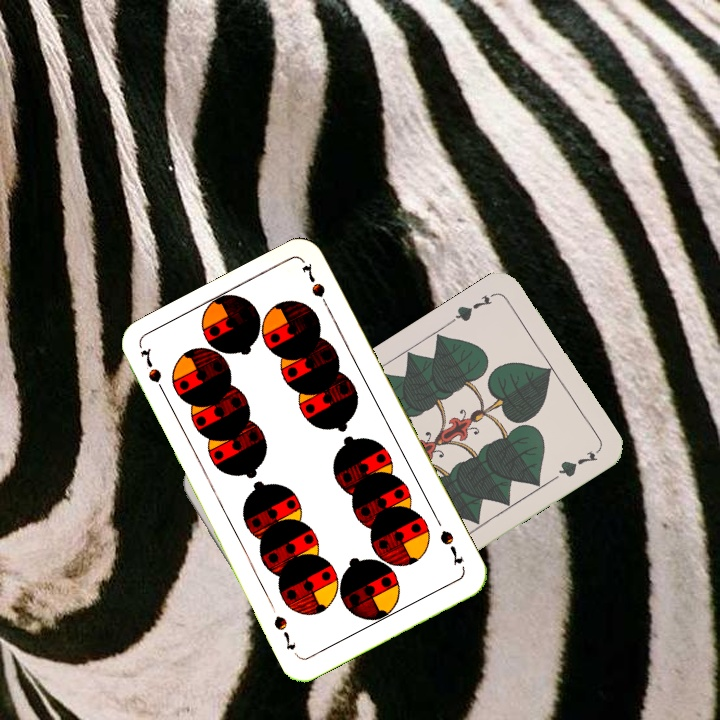G7: (447, 288, 500, 326)
S7: (136, 344, 170, 400), (435, 525, 466, 568)
